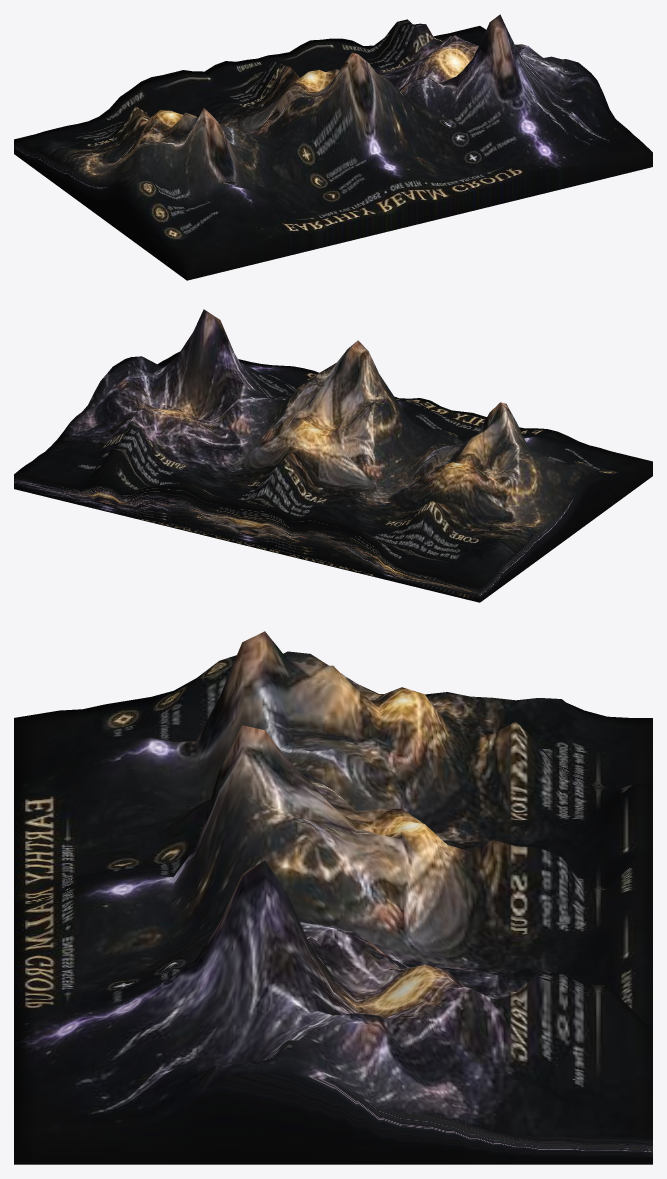
The model's file is Earthly_Realm_Group.glb.
3 views of the same model, one above another, from view 1: azimuth 30°, elevation 25°; view 2: azimuth 150°, elevation 25°; view 3: azimuth 270°, elevation 25° (orthographic). The views are drawn at different scales.
Parts seen in each view (by area): view 1: Earthly_Realm_Group; view 2: Earthly_Realm_Group; view 3: Earthly_Realm_Group.
Boxes of the visible parts, <box> form: Earthly_Realm_Group: <box>14,14,652,280</box>; Earthly_Realm_Group: <box>14,309,652,602</box>; Earthly_Realm_Group: <box>14,631,652,1164</box>.
Bounding box in the file's own units: 2 × 0.51 × 1.29.
Materials: 1 (1 with a texture image).
